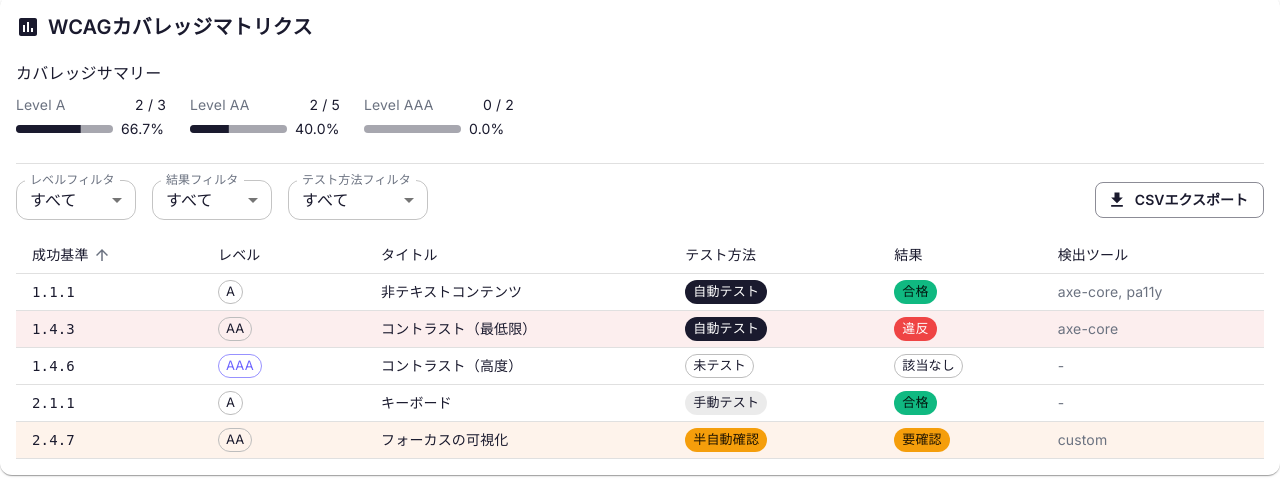
WCAGCoverageMatrix › フィルタリング › 結果でフィルタリングできる
The image size is (1280, 494).
Click the dropdown named "結果フィルタ" at (189, 200), box x1=166 y1=190 x2=213 y2=210
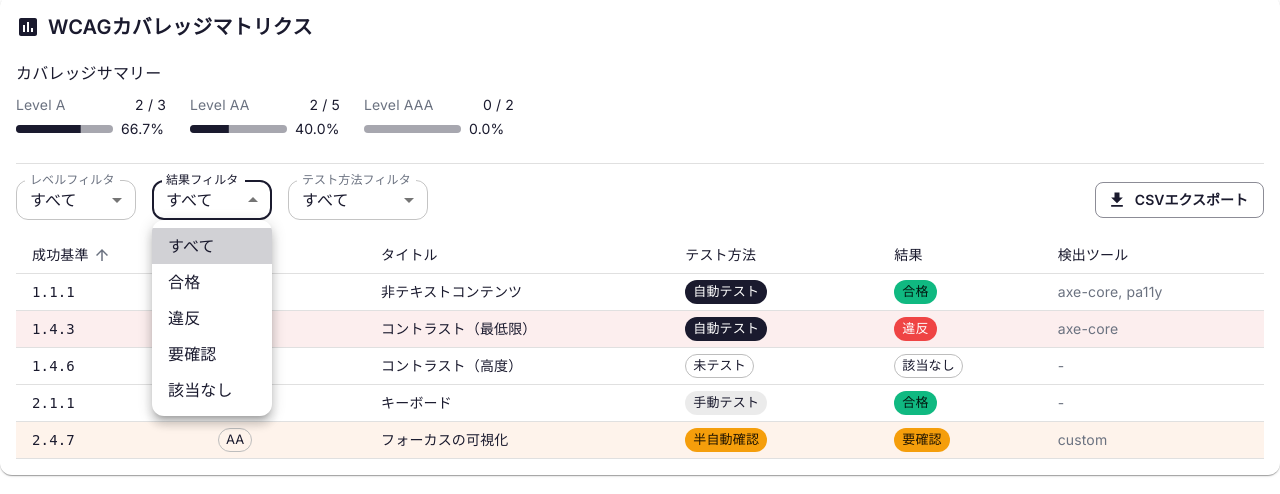
Click the option "違反" at (184, 318), box x1=168 y1=308 x2=200 y2=328
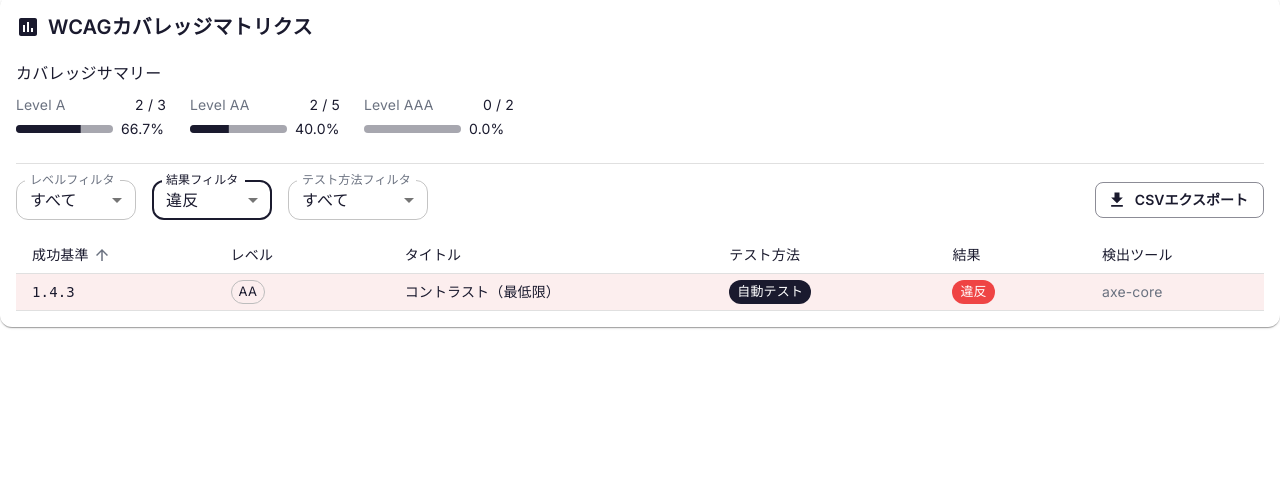
Expected: the text "1.4.3" is shown, x1=32 y1=284 x2=75 y2=300
Now the text "1.1.1" is gone
